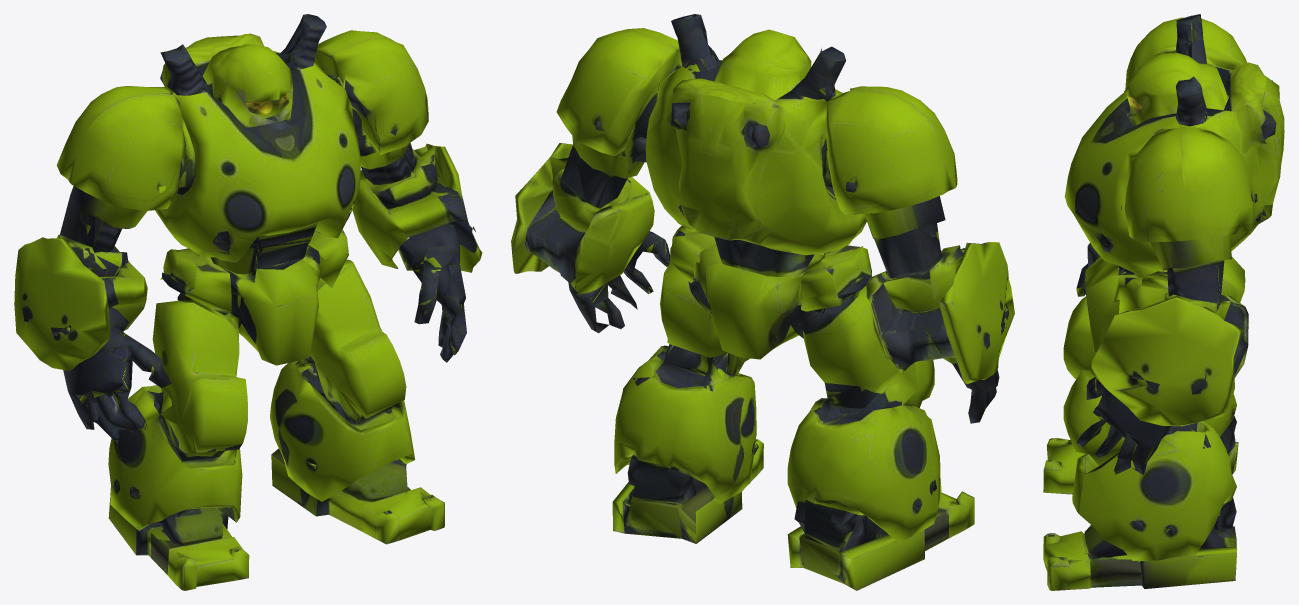
The model's file is robot_brute.glb.
3 views of the same model, side by side, from view 1: azimuth 30°, elevation 25°; view 2: azimuth 150°, elevation 25°; view 3: azimuth 270°, elevation 25° (orthographic). The views are drawn at different scales.
Size of the model in its own units: 0.9004 by 0.9514 by 0.4329.
1 material, 1 textured.
